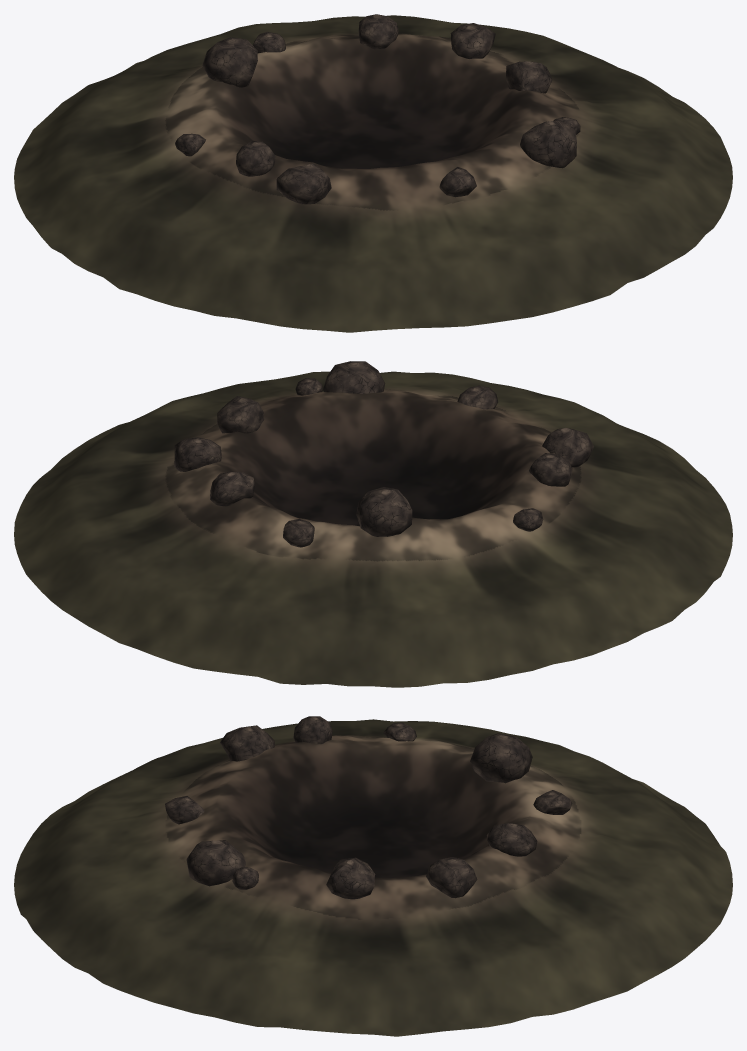
The model's file is crater.glb.
3 views of the same model, one above another, from view 1: azimuth 30°, elevation 25°; view 2: azimuth 150°, elevation 25°; view 3: azimuth 270°, elevation 25° (orthographic).
Visible parts, largest first — view 1: crater; view 2: crater; view 3: crater.
Part boxes in pixels (left/top/right/bottom): crater: left=14, top=14, right=732, bottom=332; crater: left=14, top=361, right=732, bottom=687; crater: left=14, top=716, right=732, bottom=1036.
Size of the model in its own units: 4.5 by 0.7806 by 4.5.
2 materials, 2 textured.
